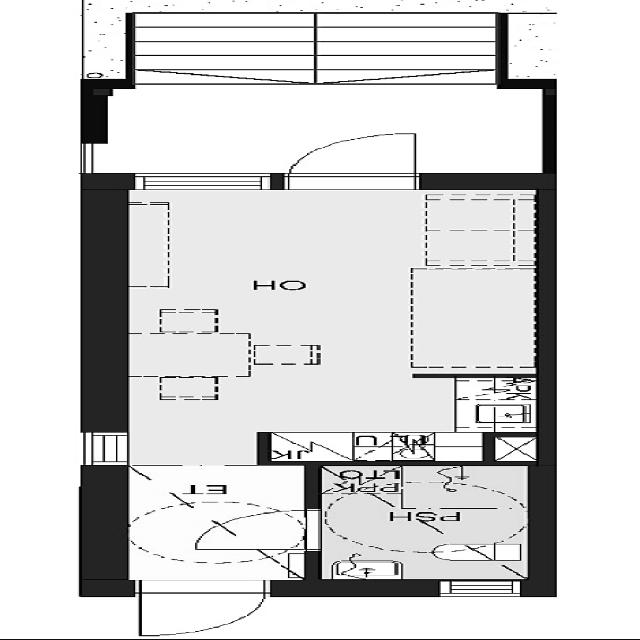door: (285, 126, 430, 187), (105, 585, 265, 640), (185, 512, 338, 558)
window: (94, 167, 270, 194), (409, 575, 543, 595), (80, 432, 128, 478)
zone: (89, 183, 540, 380), (97, 382, 558, 462), (319, 463, 546, 588)
